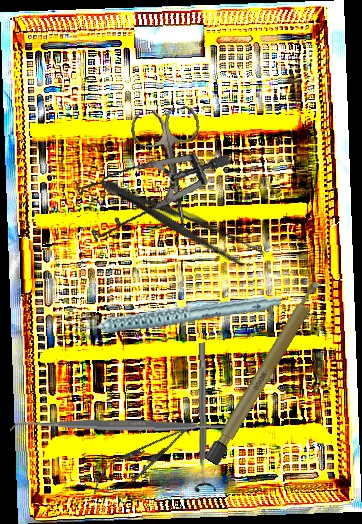Dressing Forceps: (94, 170, 269, 274)
Fixation Ring: (190, 342, 217, 492)
Handpiece: (67, 274, 282, 351)
Iris Scissors: (128, 104, 217, 236)
Needle Holder: (84, 410, 205, 505)
Scalpel Handle: (204, 276, 328, 467)
Spatula Surgical: (9, 410, 242, 442)
Speculum: (63, 125, 234, 267)
